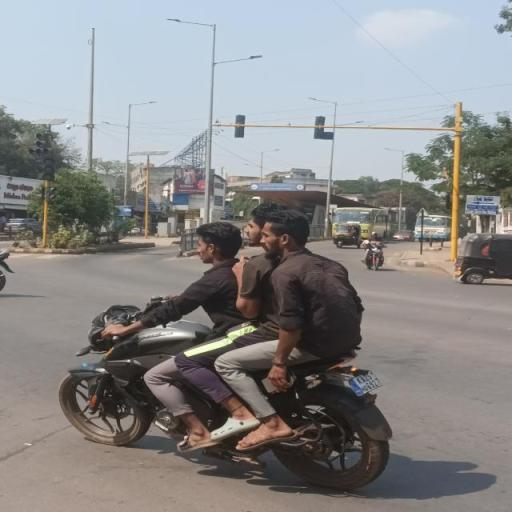tripple riding: (81, 200, 396, 360)
